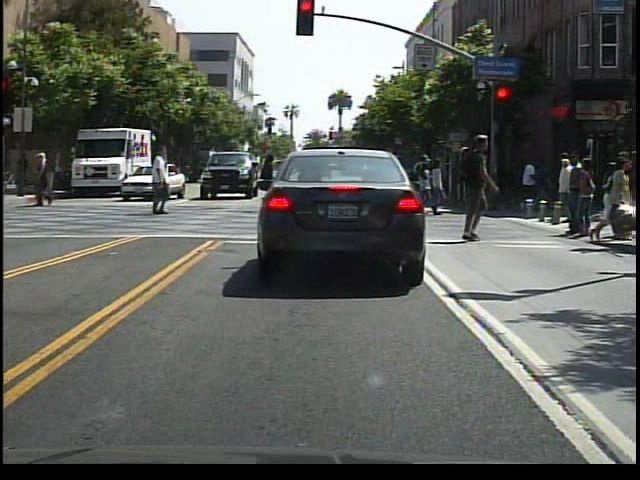person: (444, 133, 497, 247), (589, 152, 636, 245), (140, 149, 177, 225), (243, 155, 277, 214), (552, 154, 578, 226), (30, 150, 55, 214), (519, 155, 539, 221)
